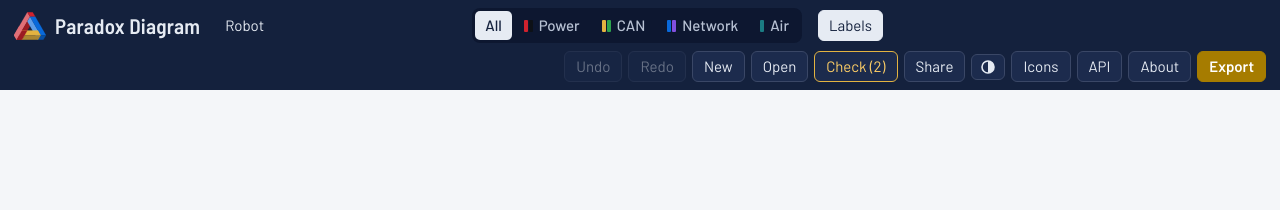
Test: Check shows the count, lists the problems, and a click picks the devices and closes the list
Click the button "Check (2)". click: (856, 66)
box: left=814, top=51, right=898, bottom=82
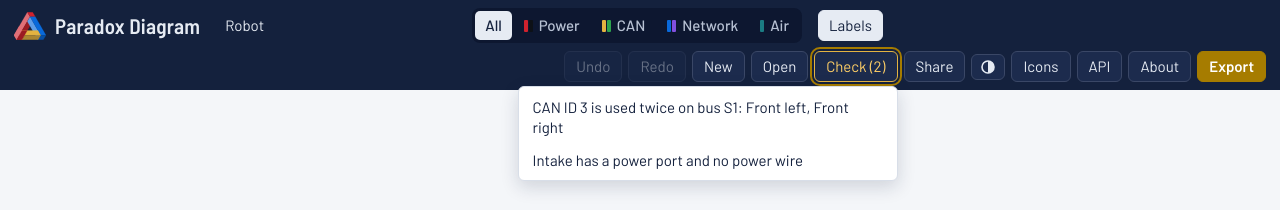
expect the menu items read "CAN ID 3 is used twice on bus S1: Front left, Front right", "Intake has a power port and no power wire", in this order: met
Click the menu item "CAN ID 3 is used twice on bus S1: Front left, Front right". click: (708, 117)
box: left=522, top=91, right=892, bottom=144
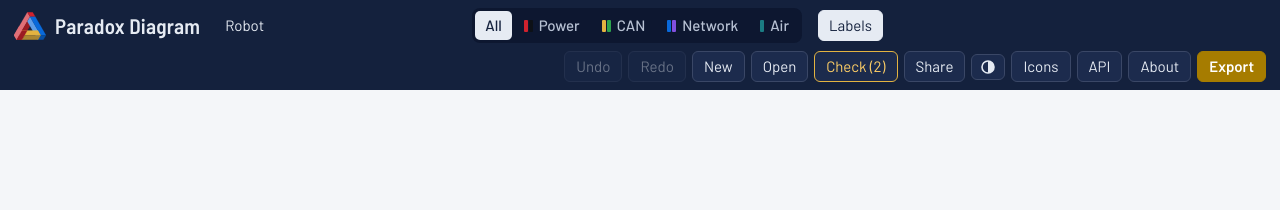
expect the menu item is gone: met
